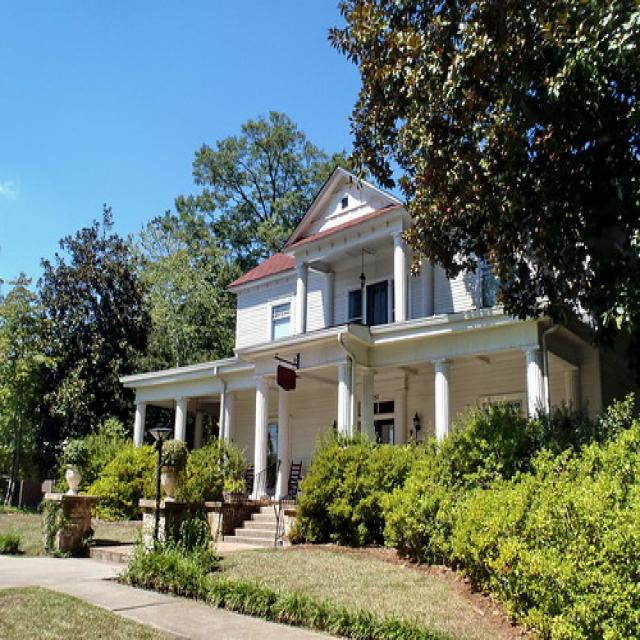Normal_building: (116, 163, 614, 556)
